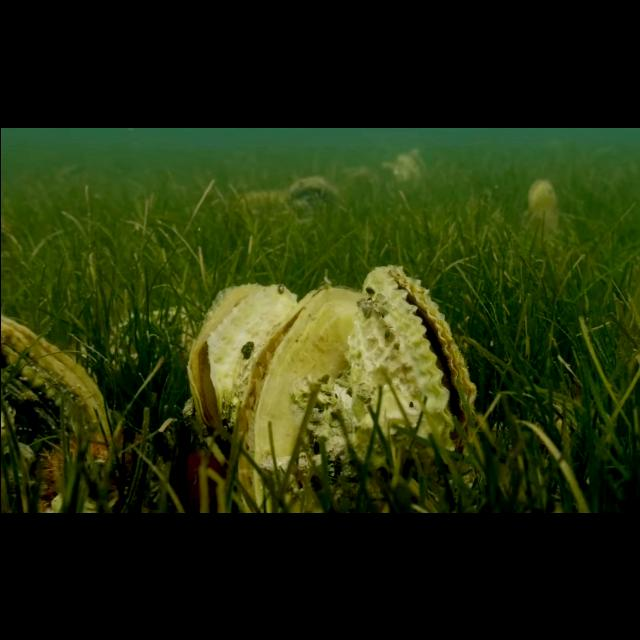Oyster-Closed: (0, 312, 112, 513), (284, 173, 344, 213)
Oyster-Open: (344, 264, 481, 498), (238, 285, 366, 513), (188, 283, 298, 455), (526, 175, 558, 222), (396, 145, 429, 183)
